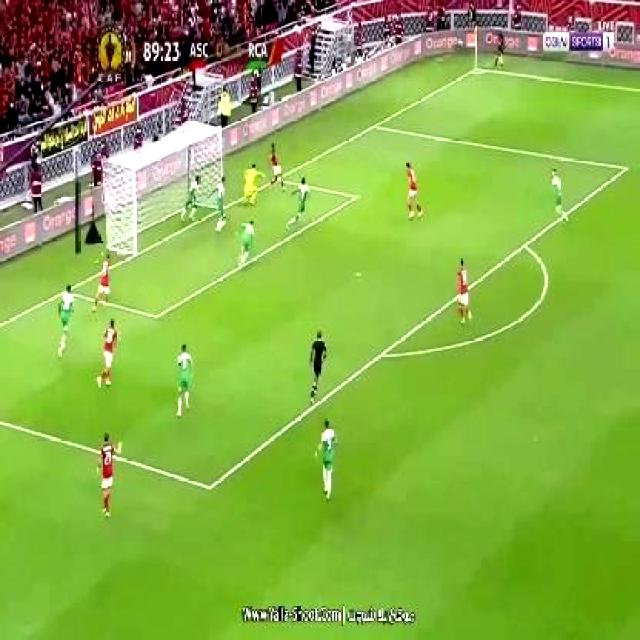bigarea_bottom_inner: (200, 474, 218, 501)
bigarea_top_inner: (620, 160, 629, 175)
bigarea_top_outter: (368, 119, 378, 132)
bottom_arc_area_intersection: (374, 344, 388, 364)
corner: (469, 64, 482, 74)
smallarea_bottom_inner: (149, 306, 163, 325)
smallarea_top_inner: (349, 189, 360, 205)
top_arc_area_intersection: (518, 237, 530, 252)
